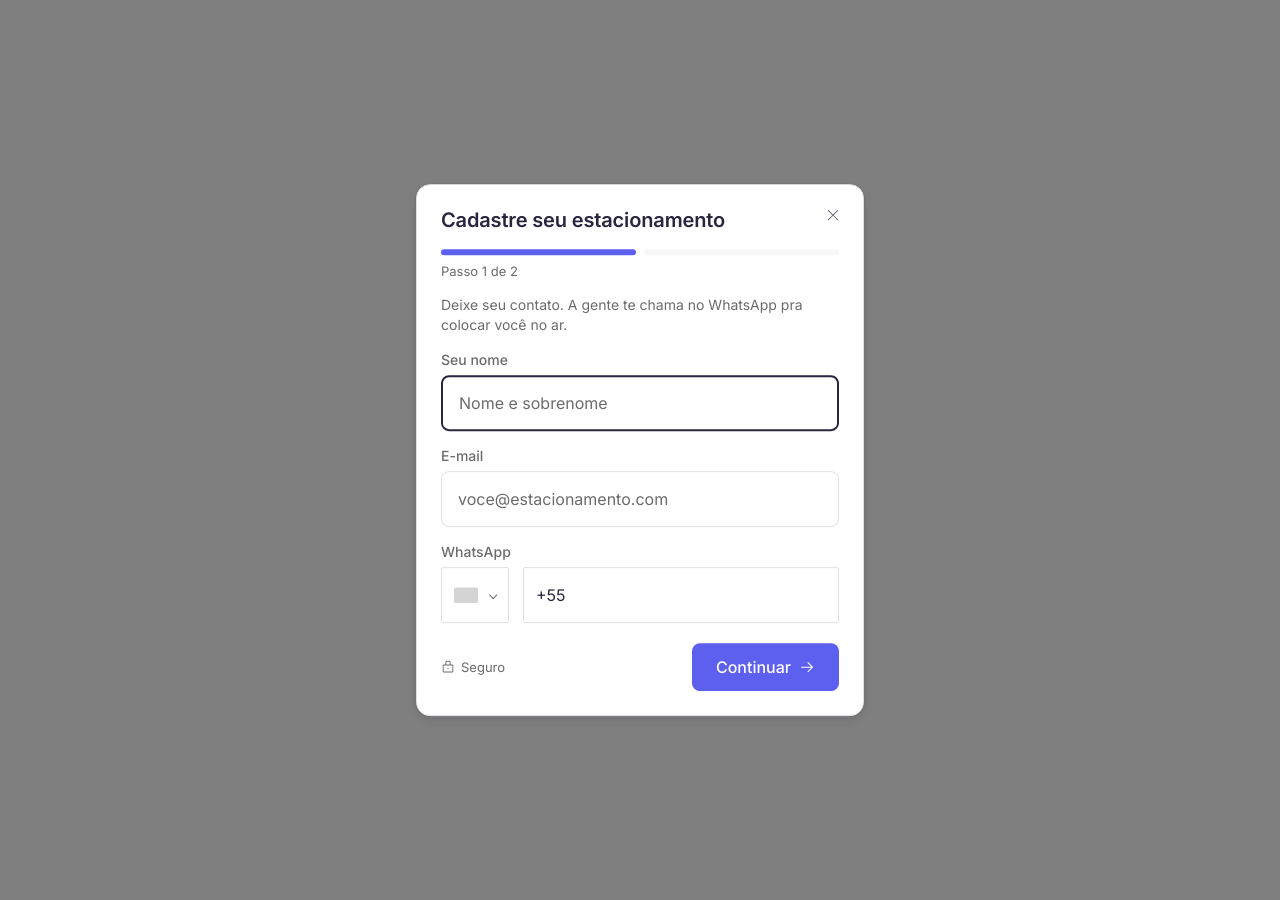
Scenario: PartnerLeadModal › exige e-mail válido no passo 1 antes de avançar
Expected: the text "Passo 1 de 2" is shown, [441,263,518,279]
Type "Ana Souza" into the field labelled "Seu nome" at (640, 403), box [441,375,839,431]
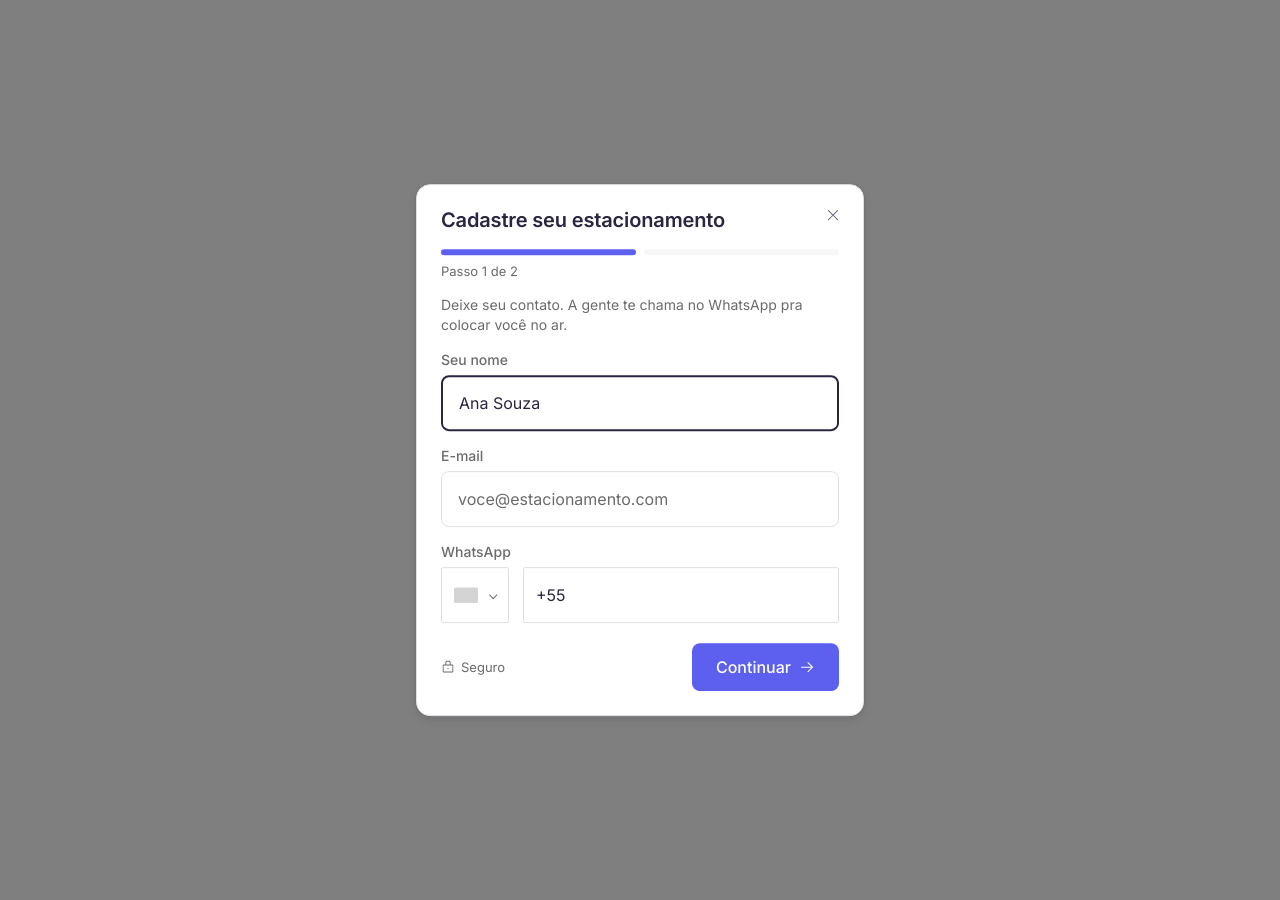
Type "invalido" into the field labelled "E-mail" at (640, 499), box [441,471,839,527]
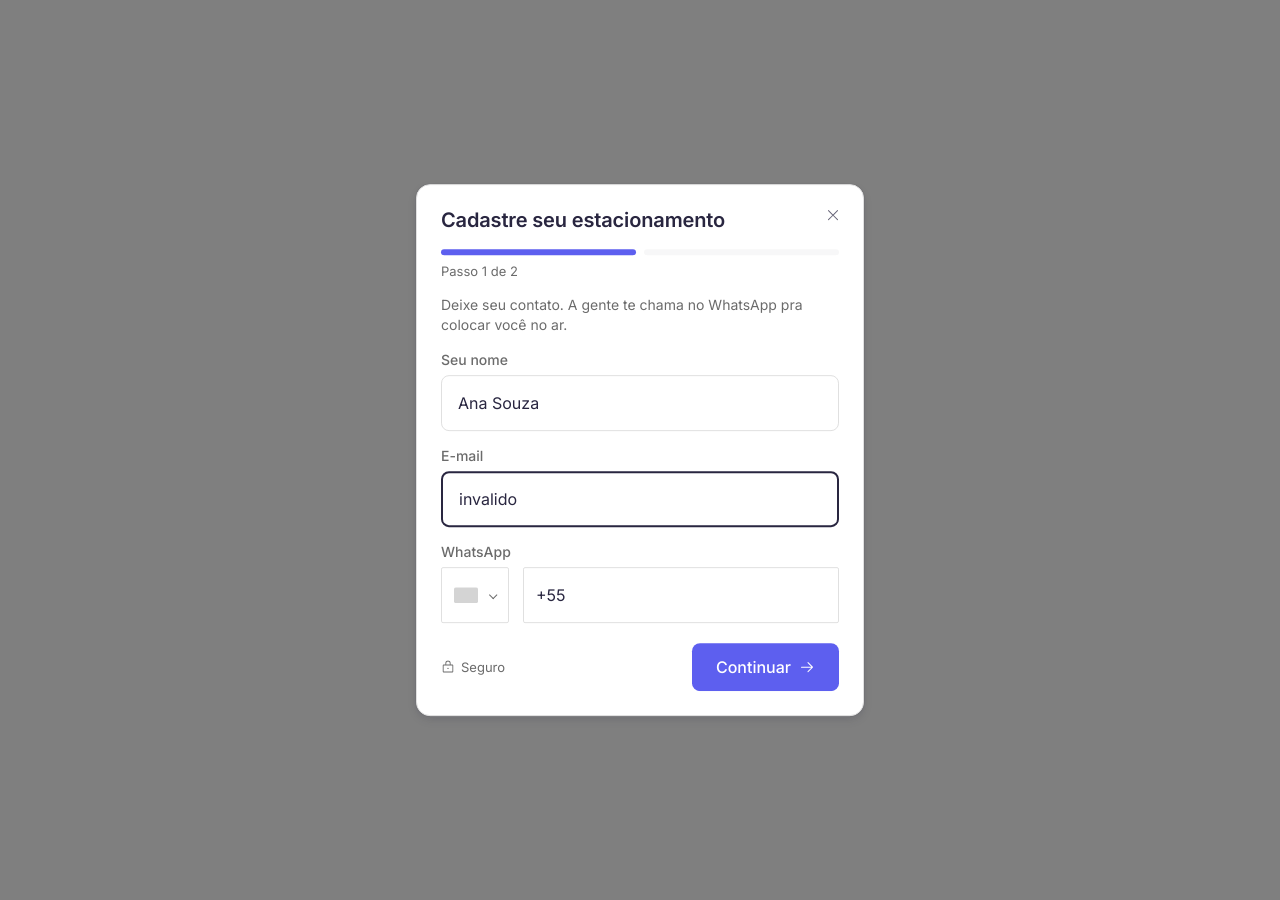
Type "11991234567" into the field labelled "WhatsApp" at (681, 595), box [523,567,839,623]
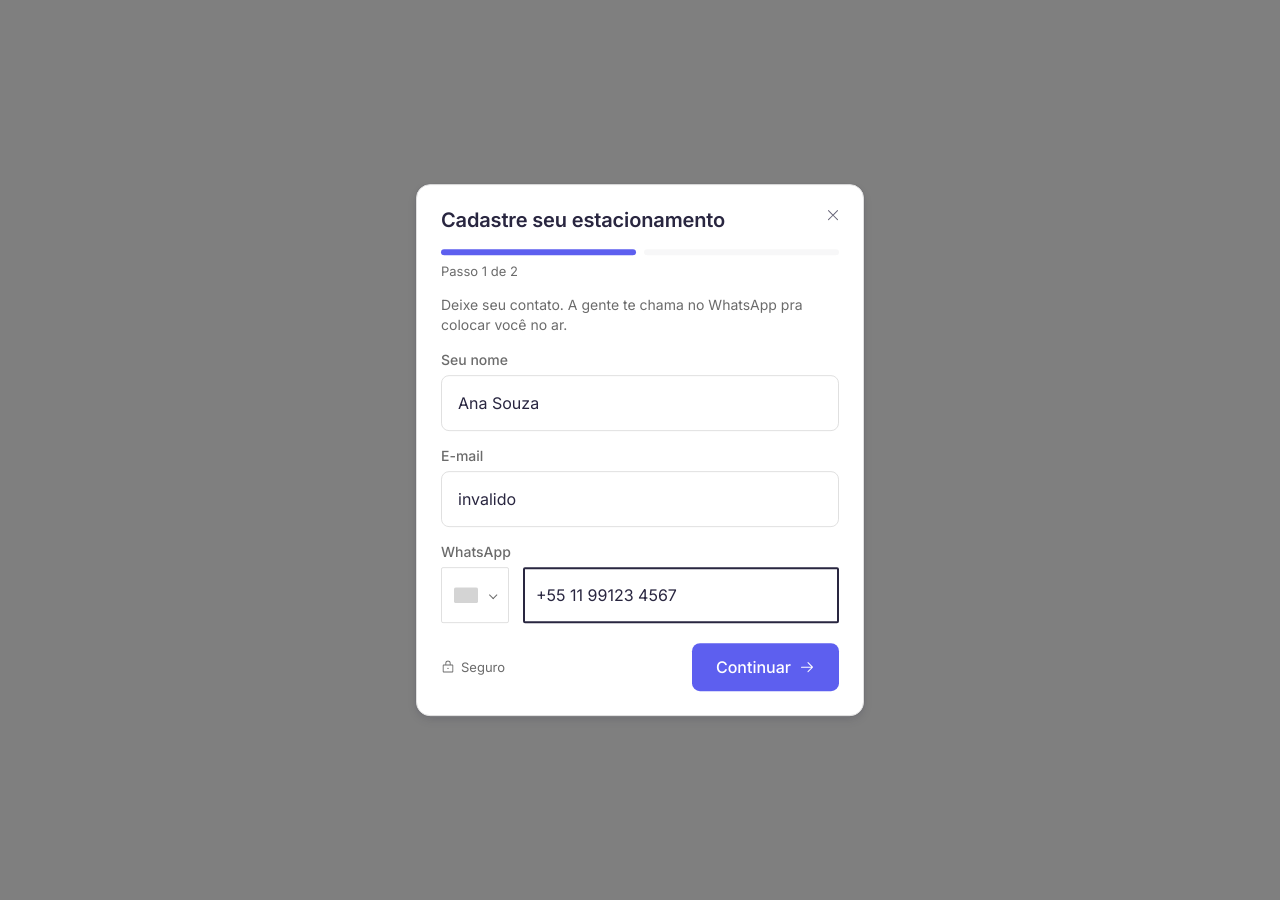
Click the button "Continuar" at (766, 667), box [692,643,839,691]
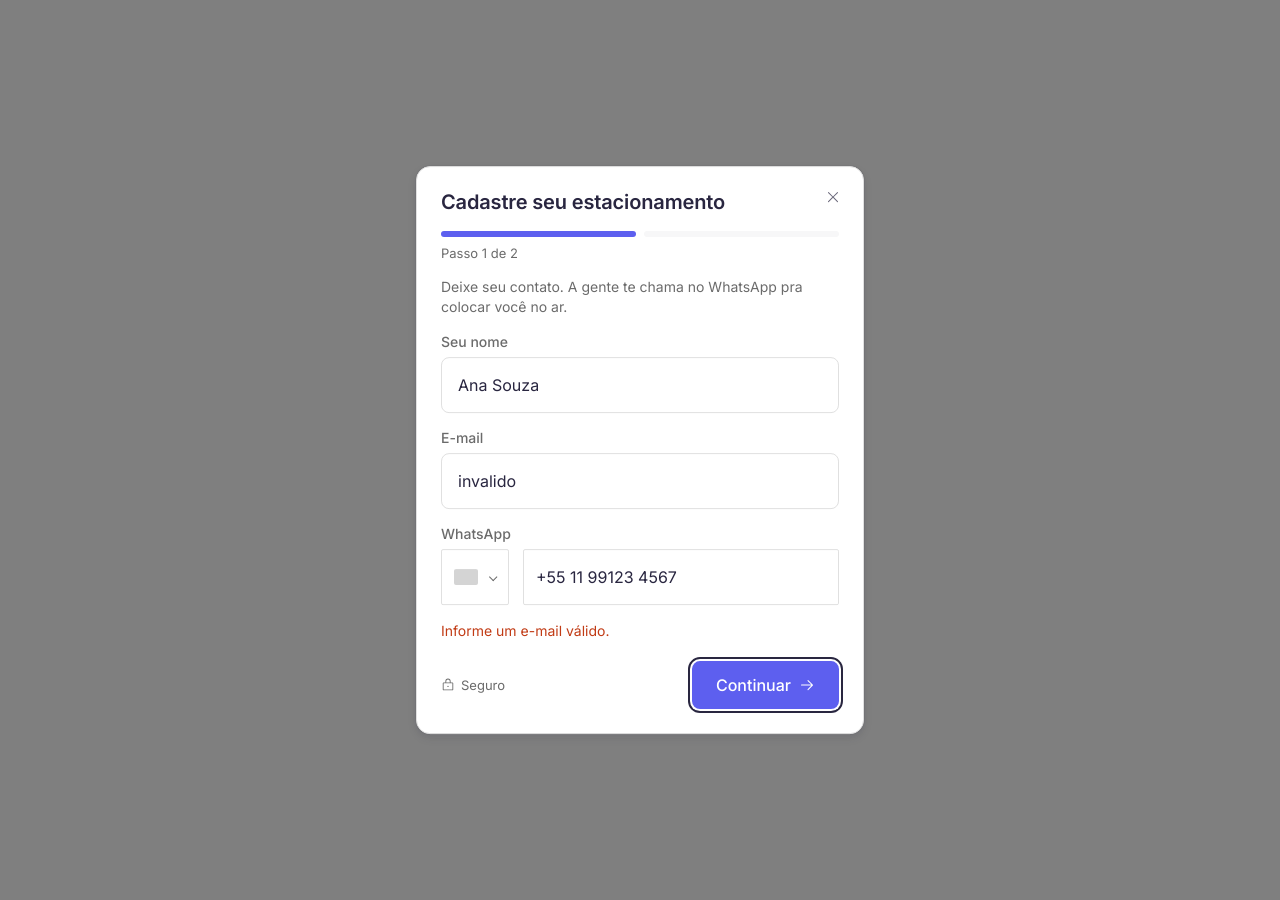
Expected: the text "Passo 1 de 2" is shown, [441,245,518,261]
Result: the text "Informe um e-mail válido." is shown at [441,622,609,639]
